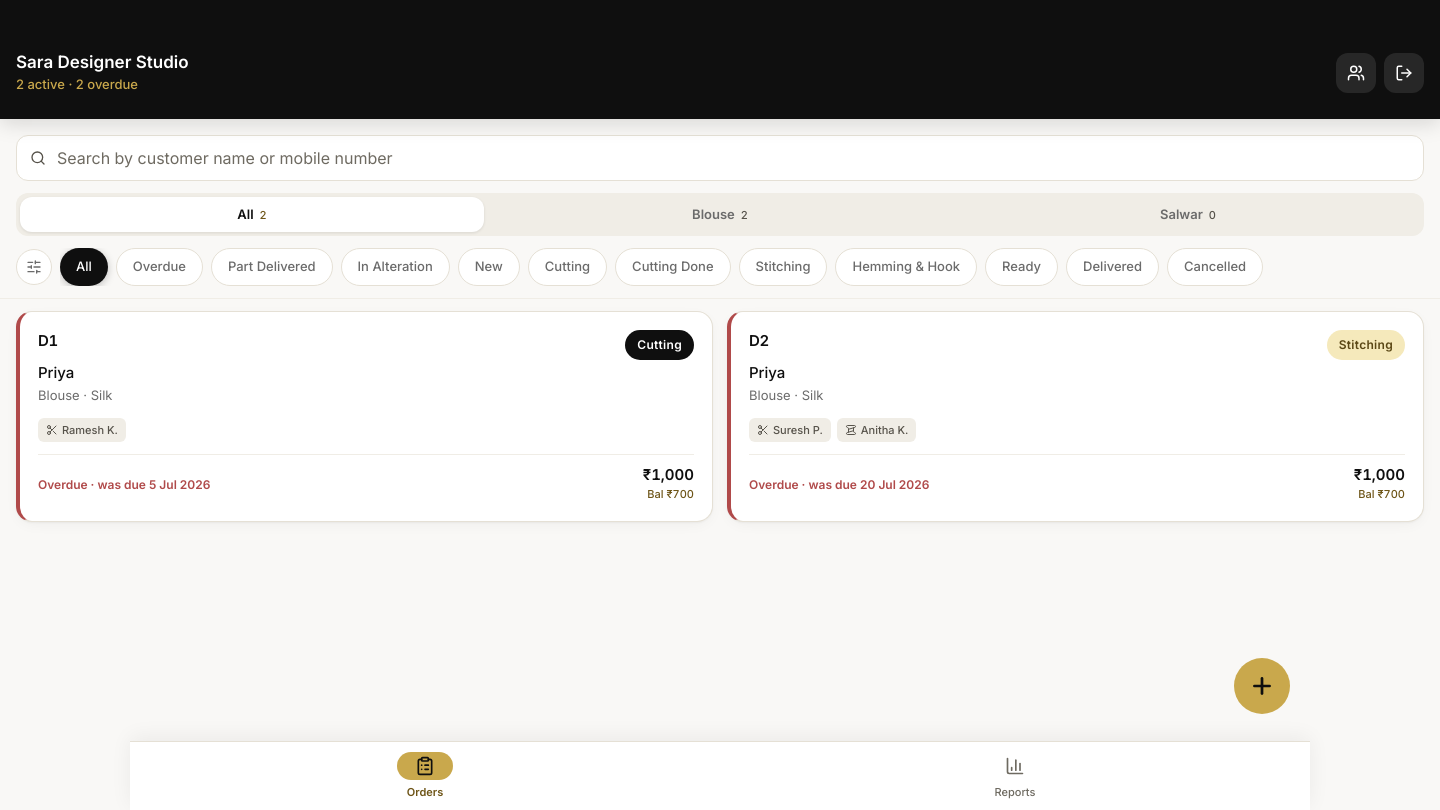
Test: OrdersBody › opens the filter sheet and filters by assigned master
Click the button named "More filters" at (34, 267), box left=16, top=249, right=52, bottom=285
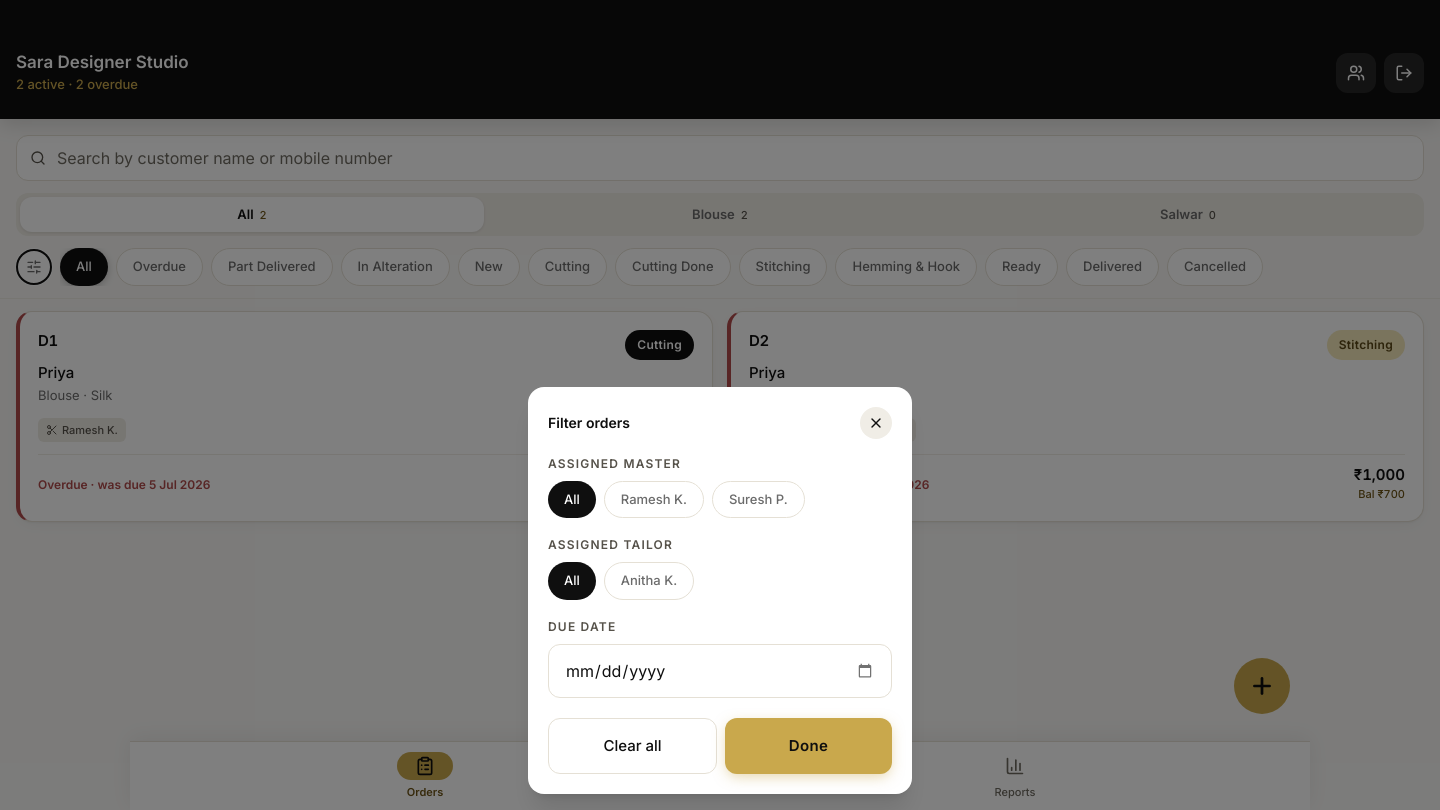
Expected: the text "Filter orders" is shown, left=548, top=412, right=630, bottom=432
Click the button "Ramesh K." at (654, 499), box left=604, top=480, right=704, bottom=518
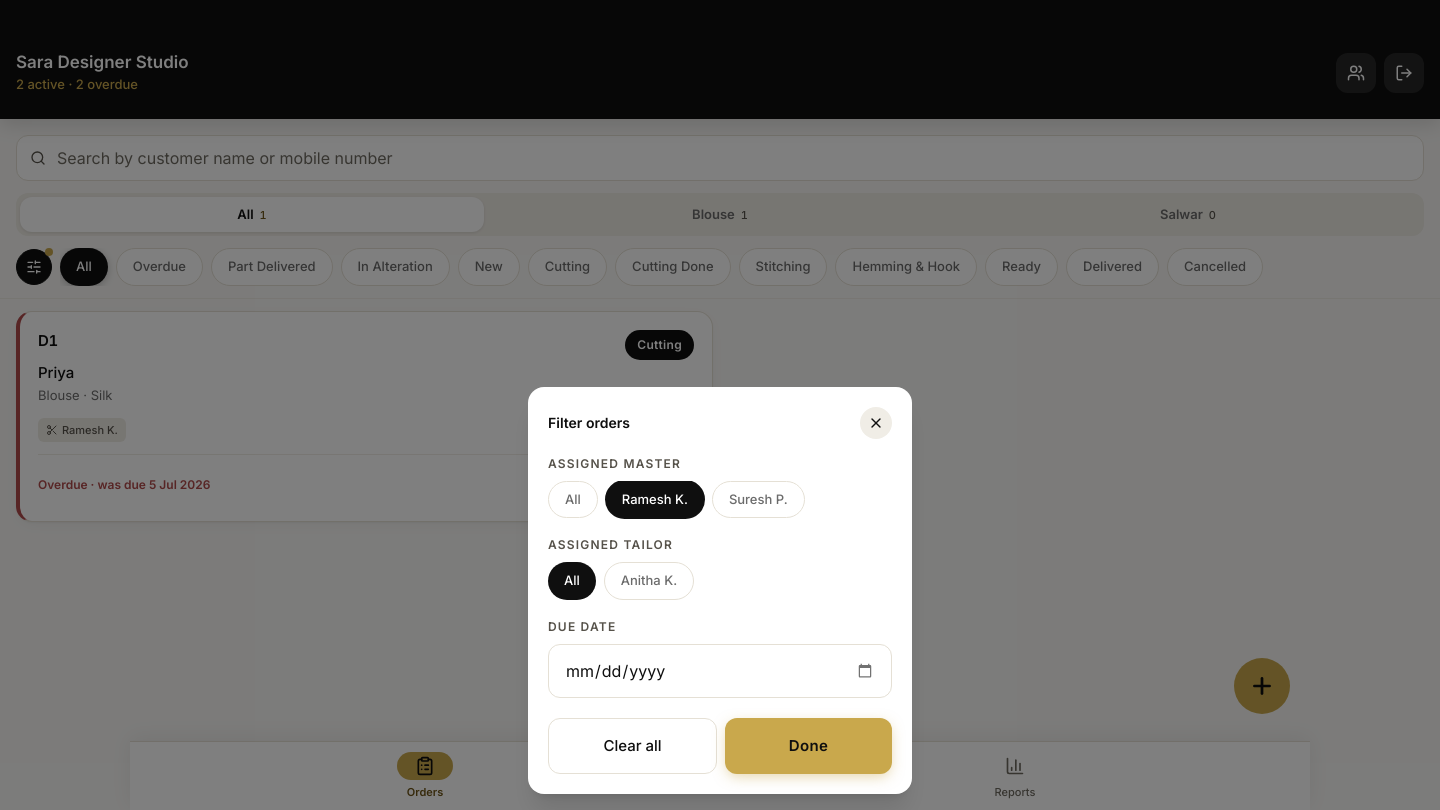
Expected: the text "D1" is shown, left=38, top=330, right=58, bottom=352
Expected: the button "D2" is gone
